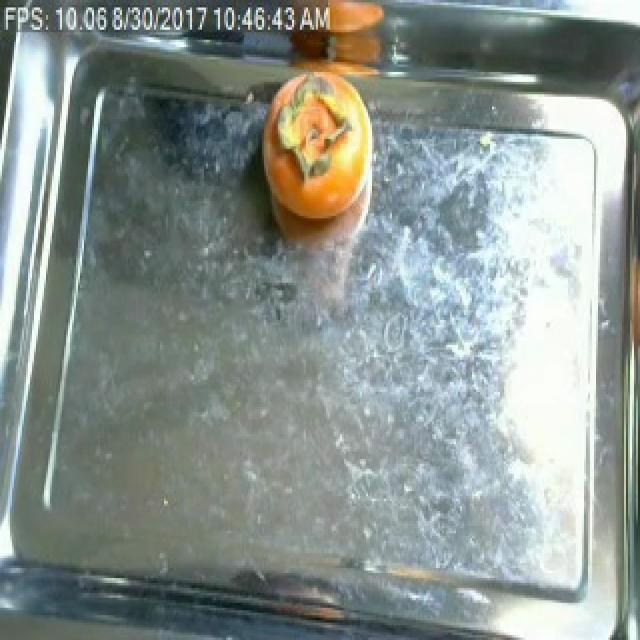Fruit: (256, 67, 356, 228)
